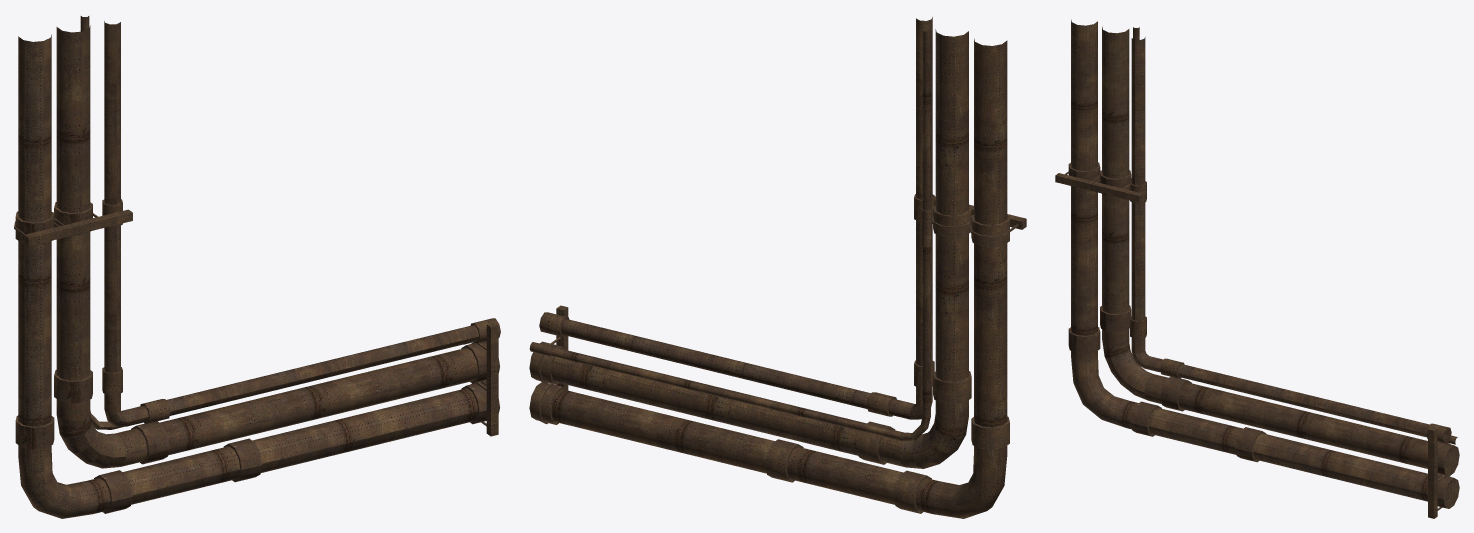
File: pipeset08d_corner128u_001a.glb
3 views of the same model, side by side, from view 1: azimuth 30°, elevation 25°; view 2: azimuth 150°, elevation 25°; view 3: azimuth 330°, elevation 25° (orthographic). The views are drawn at different scales.
Parts seen in each view (by area): view 1: 0_pipeset_metal; view 2: 0_pipeset_metal; view 3: 0_pipeset_metal.
Boxes of the visible parts, x1,y1,x2,y2 form: 0_pipeset_metal: (14,16,500,518); 0_pipeset_metal: (529,17,1026,518); 0_pipeset_metal: (1055,19,1459,518).
Size of the model in its own units: 3.25 by 3.25 by 0.3048.
Materials: 1 (1 with a texture image).
